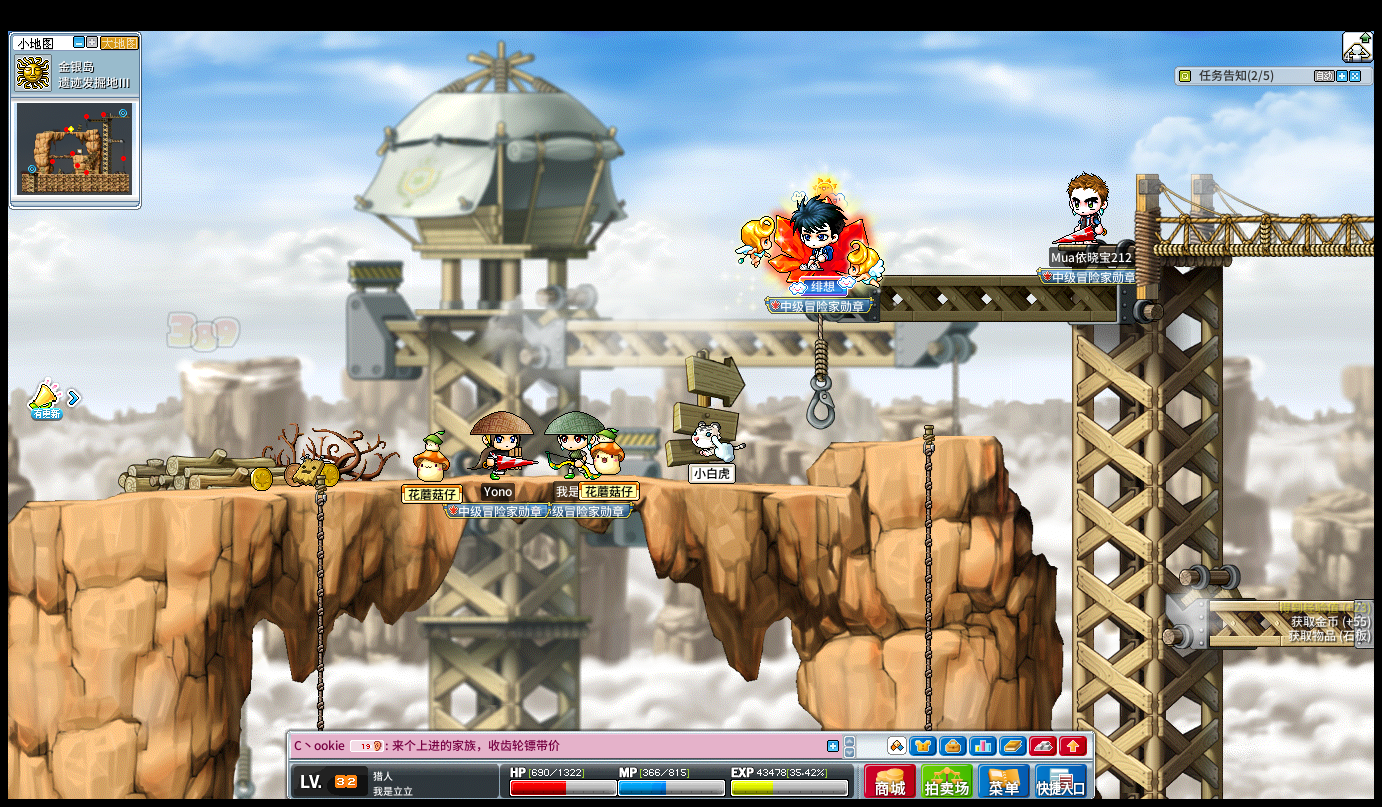floor: (27, 469, 898, 500), (45, 471, 876, 491), (827, 432, 998, 447), (1203, 597, 1367, 612), (830, 436, 1005, 449)
rope: (920, 423, 935, 756), (314, 473, 326, 723), (921, 626, 934, 725)
